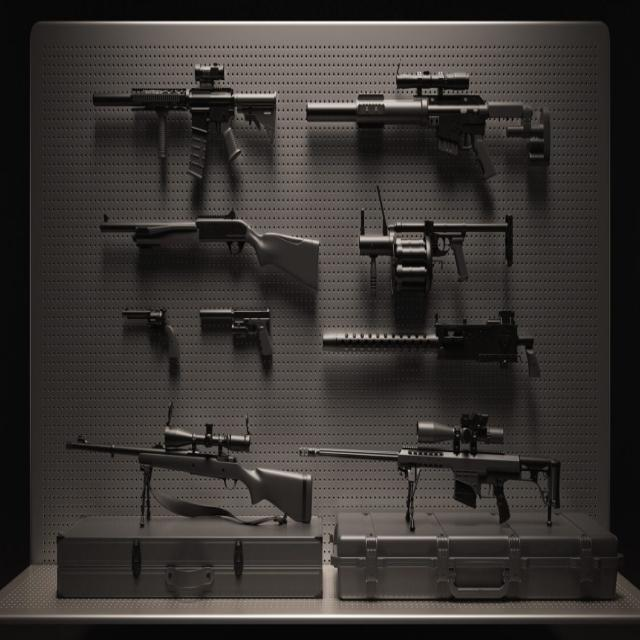HandGun: (200, 309, 272, 356), (122, 309, 178, 358)
Rifle: (299, 413, 563, 522), (307, 78, 552, 179), (66, 428, 312, 528), (93, 66, 277, 179)
ShotGun: (100, 218, 319, 289)
